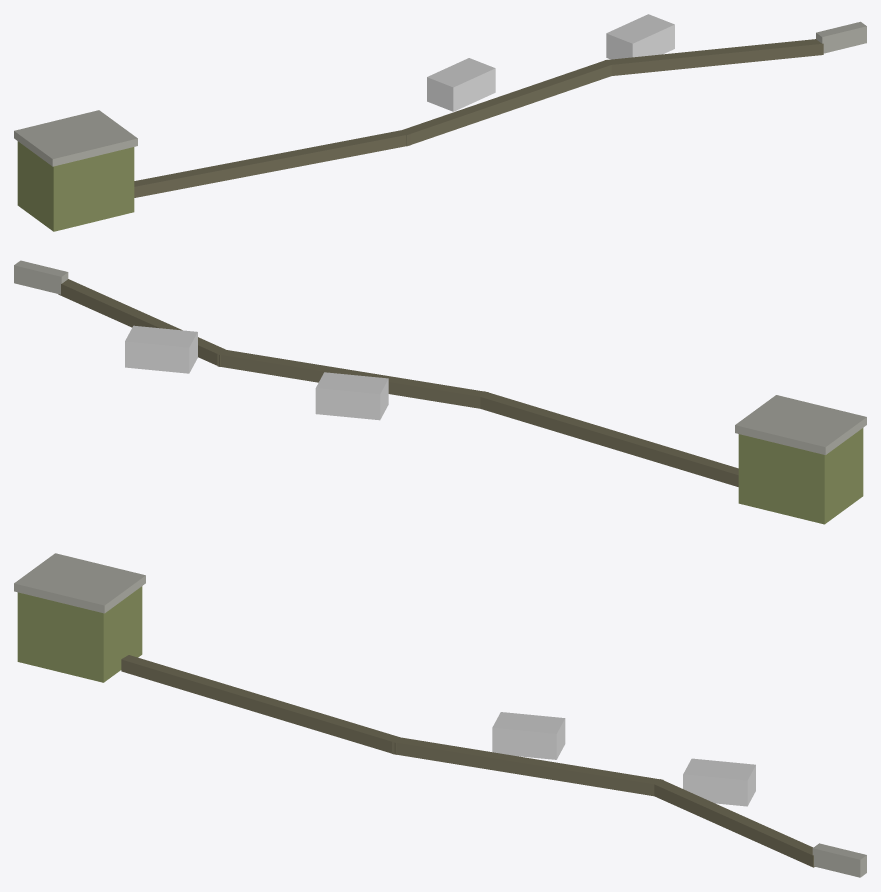
The model's file is SM_Manguera_v4_Boquerel_LOD0.fbx.
3 views of the same model, one above another, from view 1: azimuth 30°, elevation 25°; view 2: azimuth 150°, elevation 25°; view 3: azimuth 330°, elevation 25° (orthographic). The views are drawn at different scales.
Visible parts, largest first — view 1: SM_farp_betera_v9_LOD0; view 2: SM_farp_betera_v9_LOD0; view 3: SM_farp_betera_v9_LOD0.
Part boxes in pixels (bbox=[...]): SM_farp_betera_v9_LOD0: bbox=[14, 14, 866, 231]; SM_farp_betera_v9_LOD0: bbox=[14, 260, 866, 524]; SM_farp_betera_v9_LOD0: bbox=[14, 553, 866, 877].
Size of the model in its own units: 8.98 by 0.79 by 1.17.
